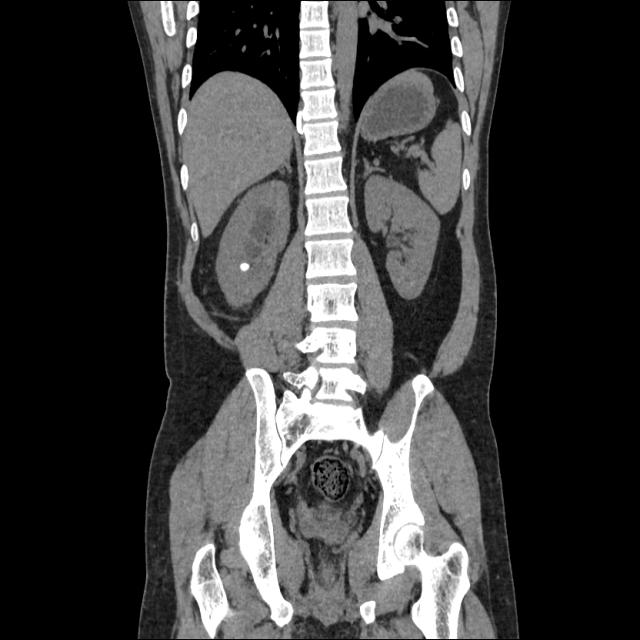kidney: (216, 178, 294, 312), (360, 176, 441, 296)
stone: (238, 259, 250, 272)
